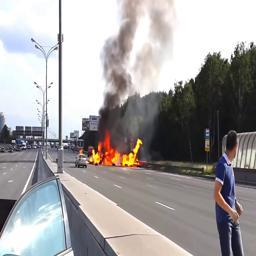fire: (91, 131, 143, 166)
